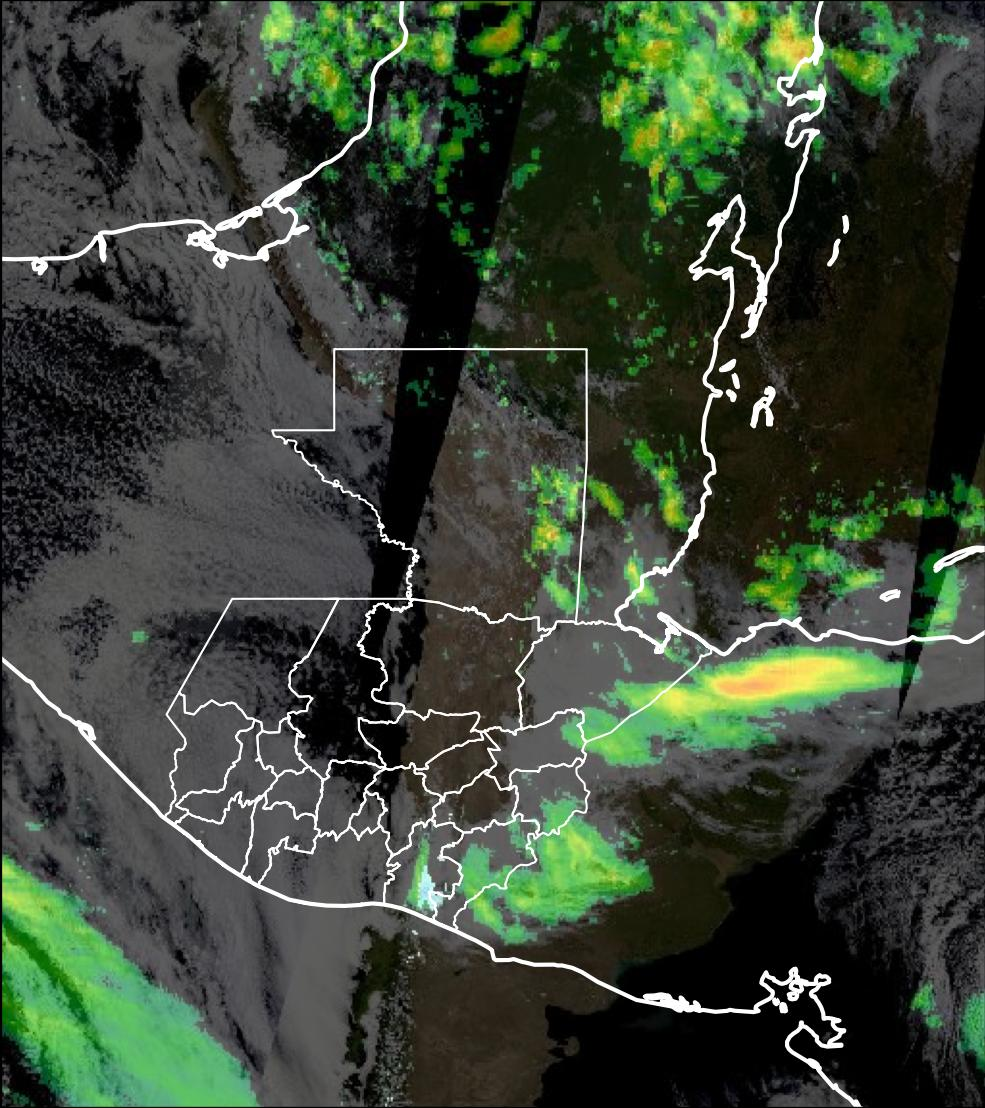precipitacion: (711, 653, 860, 714)
